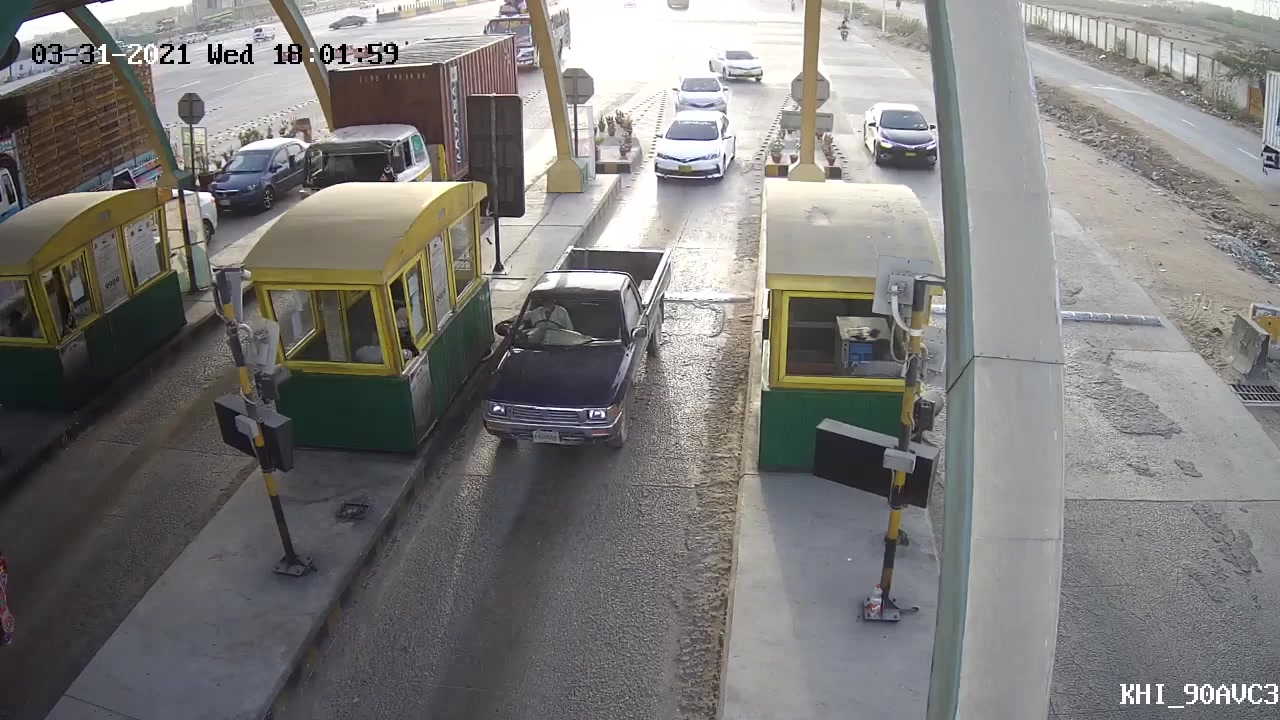F1: (468, 225, 687, 454)
